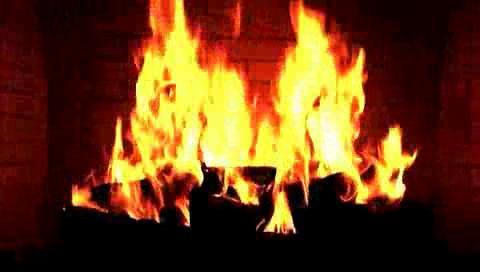fire: (109, 5, 400, 235)
